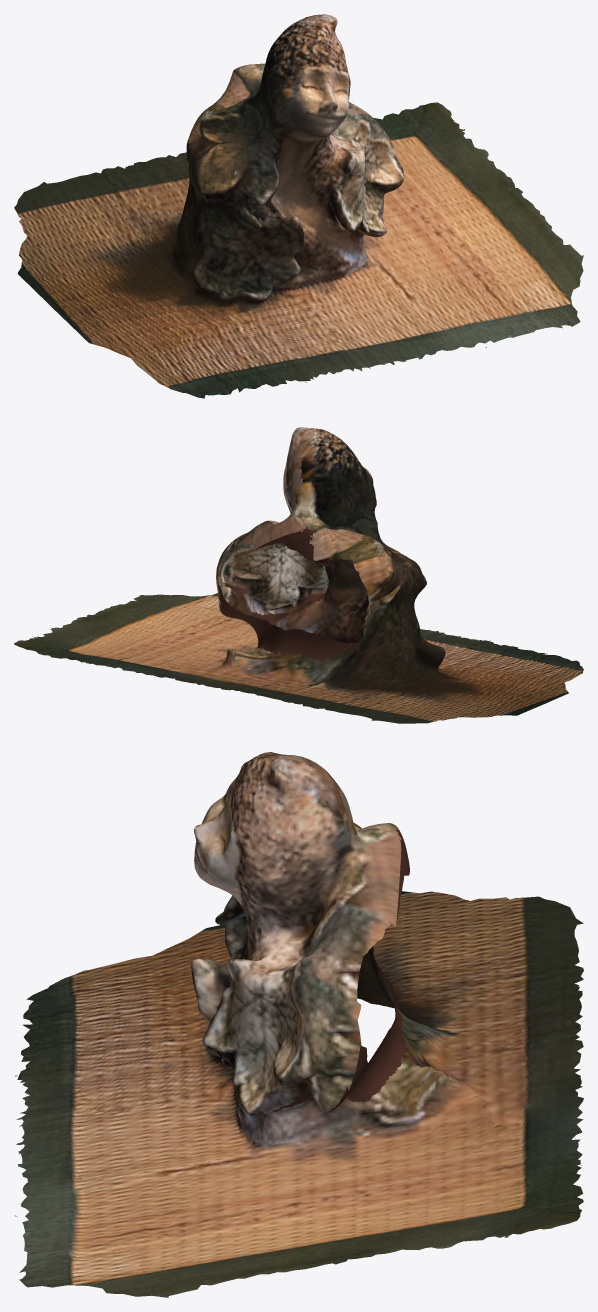
Rendered from noefy.glb.
3 renders of one model, top to bottom at view 1: azimuth 30°, elevation 25°; view 2: azimuth 150°, elevation 25°; view 3: azimuth 270°, elevation 25°, orthographic. The views are drawn at different scales.
Visible parts, largest first — view 1: noefy; view 2: noefy; view 3: noefy.
Boxes of the visible parts, left/top/right/bottom form: noefy: left=14, top=14, right=583, bottom=398; noefy: left=14, top=427, right=583, bottom=723; noefy: left=14, top=752, right=583, bottom=1297.
Bounding box in the file's own units: 33.87 × 18.67 × 23.6.
Materials: 1 (1 with a texture image).
